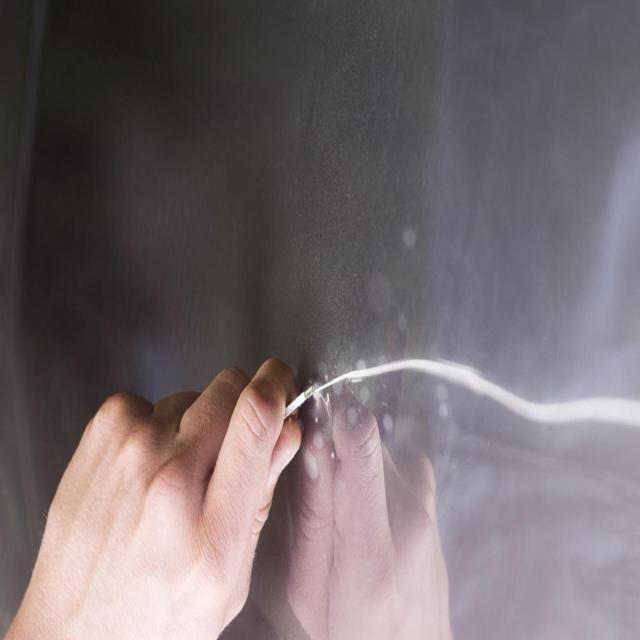scratch: (309, 351, 635, 456)
